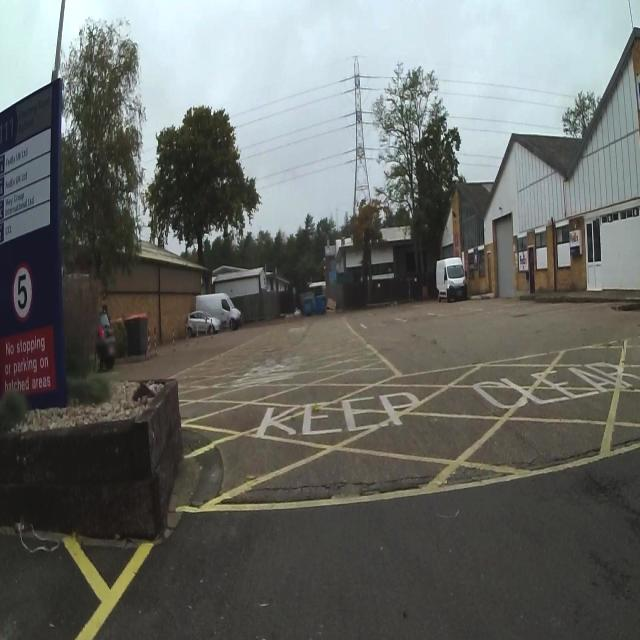bike: (94, 300, 117, 372)
car: (196, 292, 242, 330), (435, 256, 468, 301), (185, 308, 218, 336), (301, 292, 327, 314)
